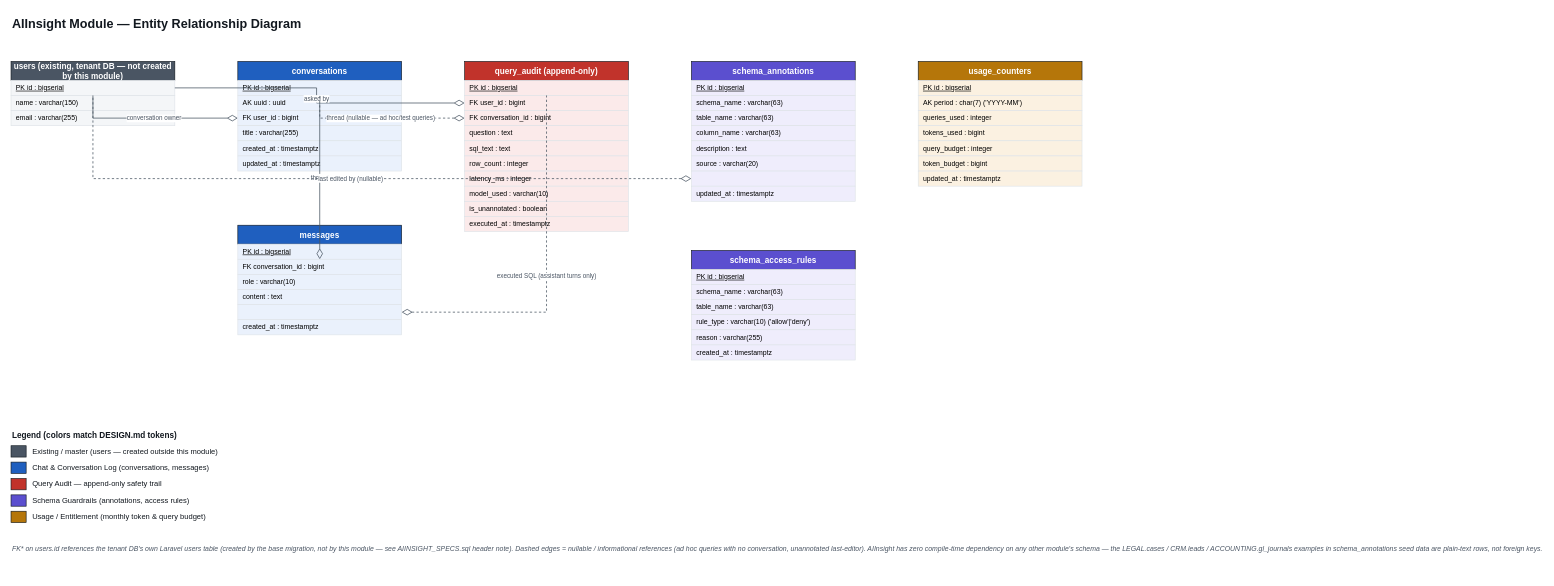
Some shapes in this 1554 by 586 pixel diagram are drawn without their labels. Here are the shapes that lost their labels. From the top down, the box of each, then its label:
(691, 170, 855, 186): FK updated_by : bigint
(237, 304, 402, 320): FK query_audit_id : bigint
